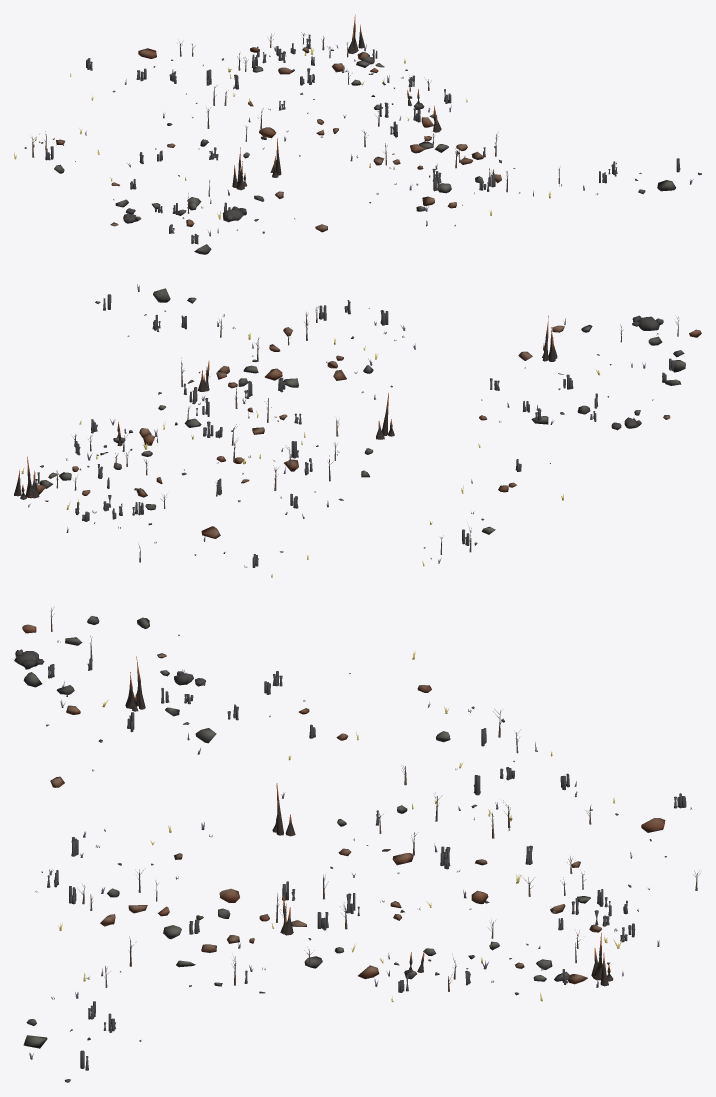
Rendered from ash_land_scatter_c18_27.glb.
The picture shows the model from 3 angles, top to bottom: view 1: azimuth 30°, elevation 25°; view 2: azimuth 150°, elevation 25°; view 3: azimuth 270°, elevation 25°; orthographic projection. The views are drawn at different scales.
Visible parts, largest first — view 1: ash_land_scatter_c18_27; view 2: ash_land_scatter_c18_27; view 3: ash_land_scatter_c18_27.
Boxes of the visible parts, x1=… form: ash_land_scatter_c18_27: x1=14, y1=14, x2=701, y2=254; ash_land_scatter_c18_27: x1=14, y1=284, x2=701, y2=577; ash_land_scatter_c18_27: x1=14, y1=608, x2=699, y2=1082.
Size of the model in its own units: 217 by 42.3 by 177.
